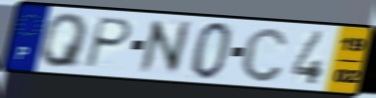0: (188, 20, 234, 81)
4: (289, 29, 324, 87)
C: (238, 25, 290, 84)
N: (137, 18, 193, 76)
P: (81, 15, 135, 70)
Q: (38, 12, 91, 69)
